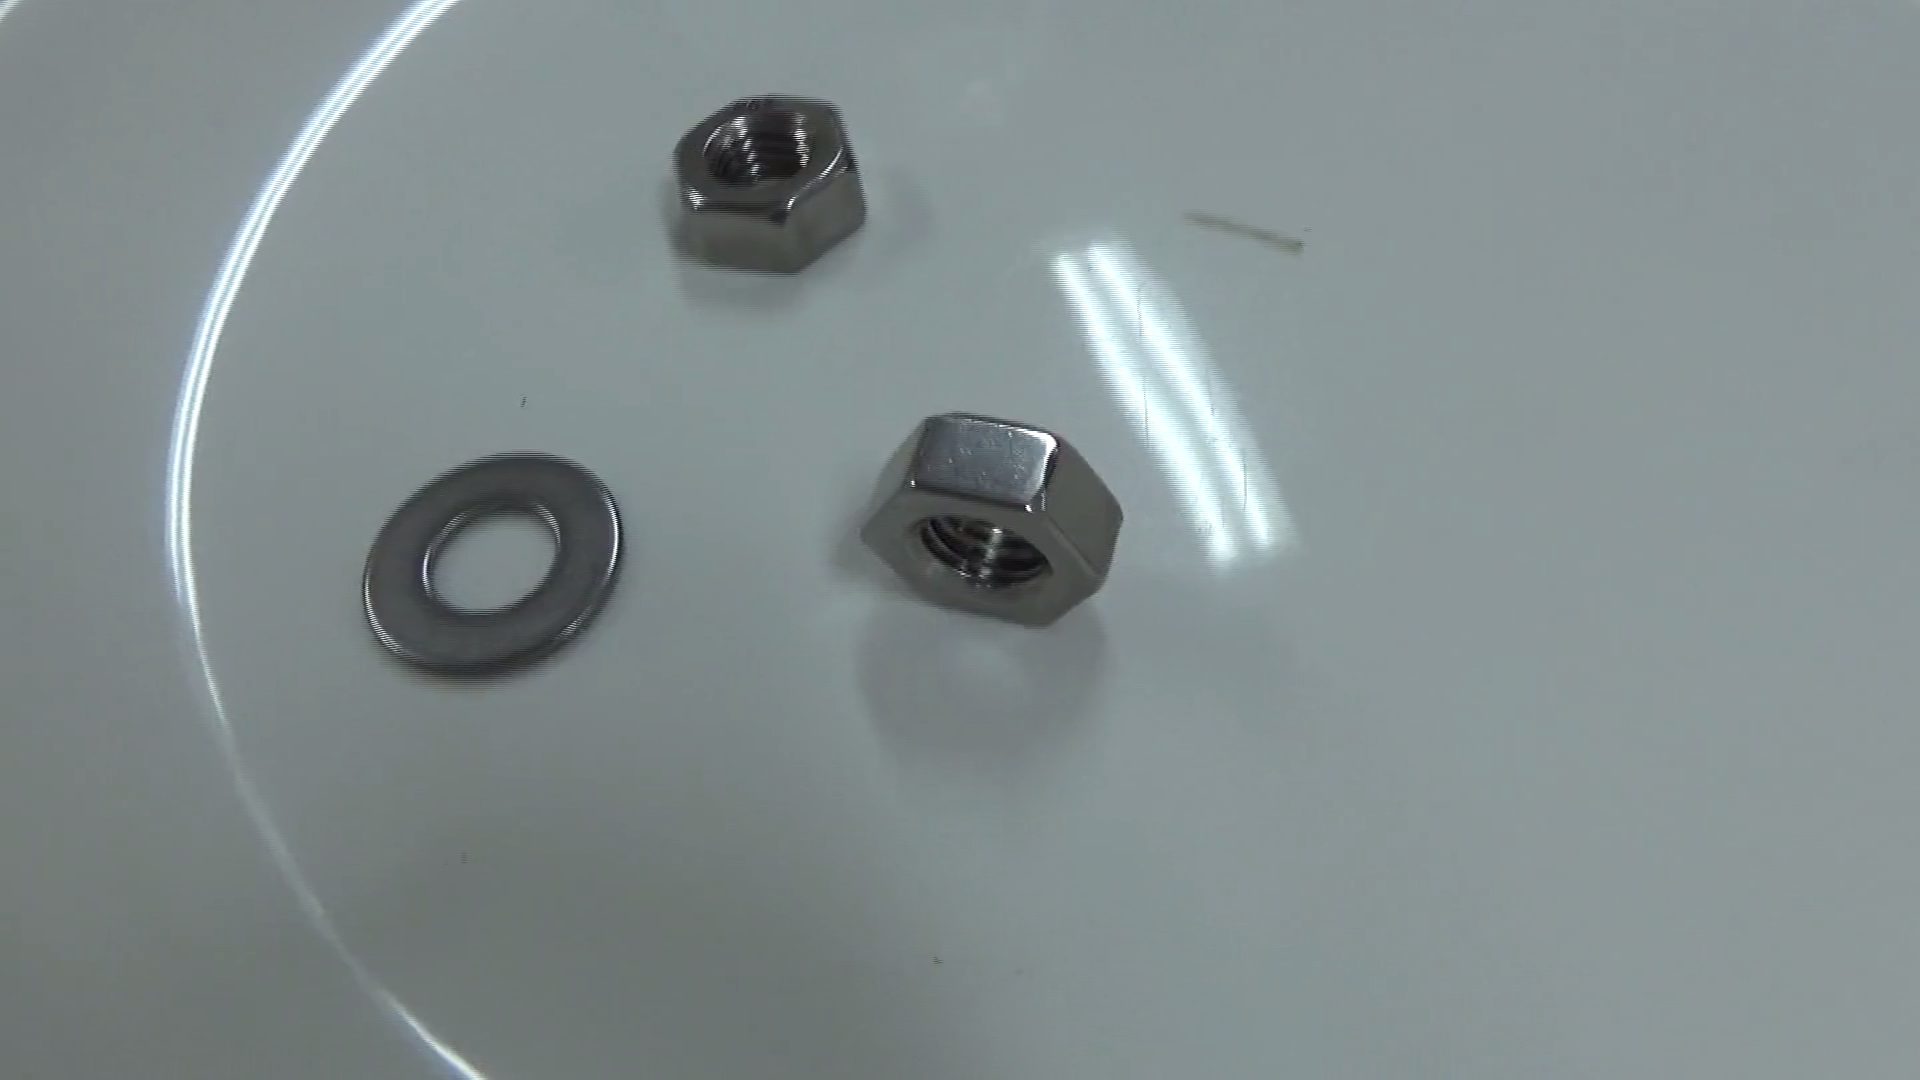nut: (843, 405, 1122, 642), (665, 80, 878, 284)
washer: (345, 435, 626, 694)
